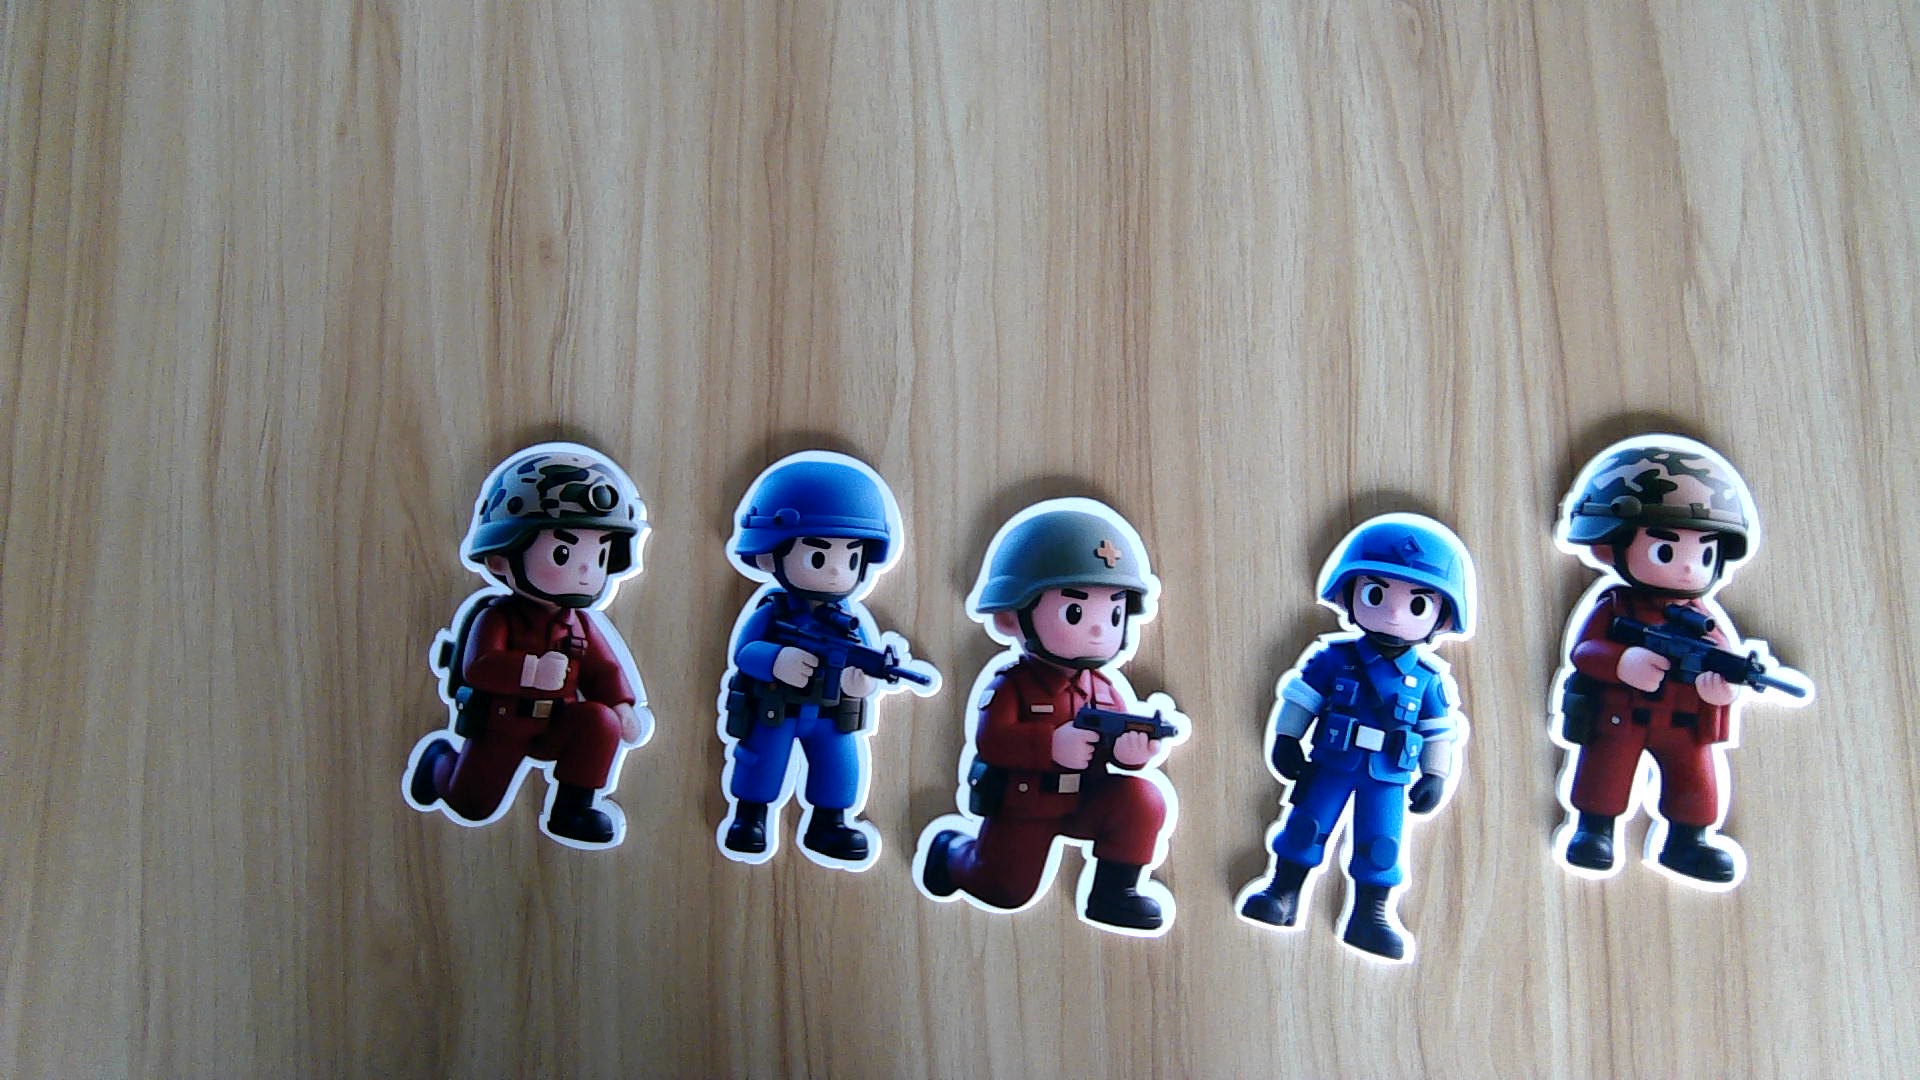敌人1: (1532, 593, 1811, 899), (911, 651, 1203, 936), (392, 607, 655, 858)
敌人2: (1226, 640, 1476, 969), (713, 593, 914, 870)
